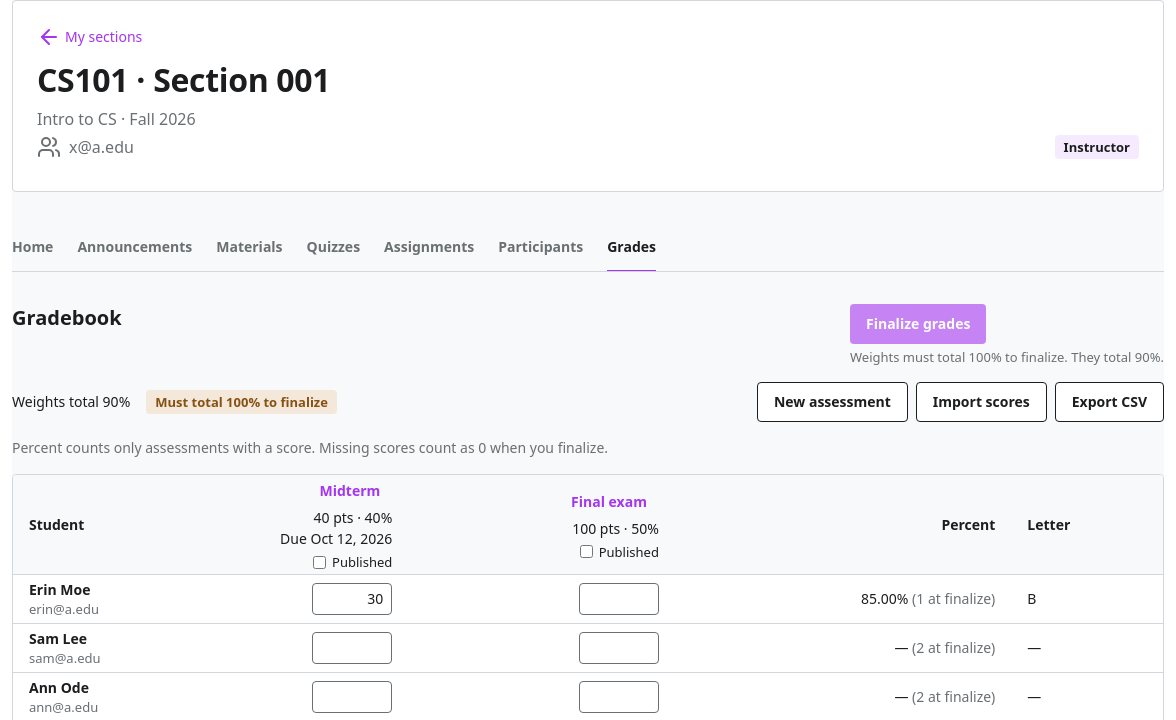
Scenario: no PUT without a change, and Escape restores the server value
Focus the field named "Score for Erin Moe, Midterm" at (352, 599), box top-left (312, 583), bottom-right (392, 615)
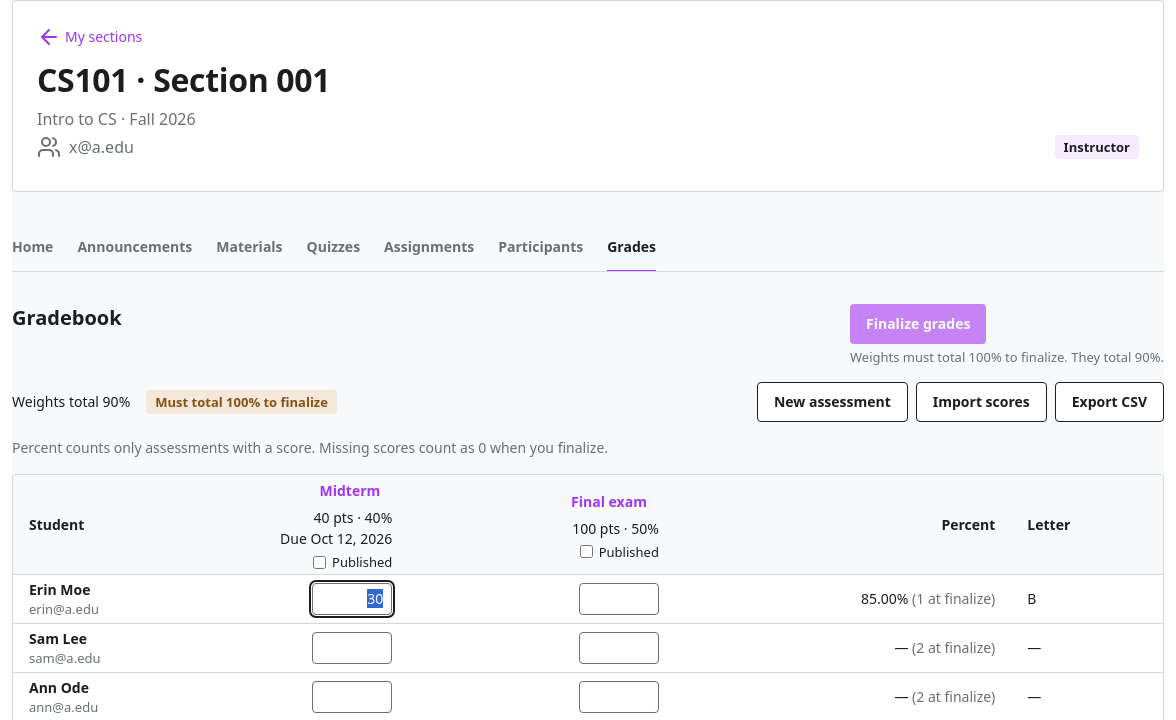
Replace the text in the field named "Score for Erin Moe, Midterm" with "39" at (352, 599), box top-left (312, 583), bottom-right (392, 615)
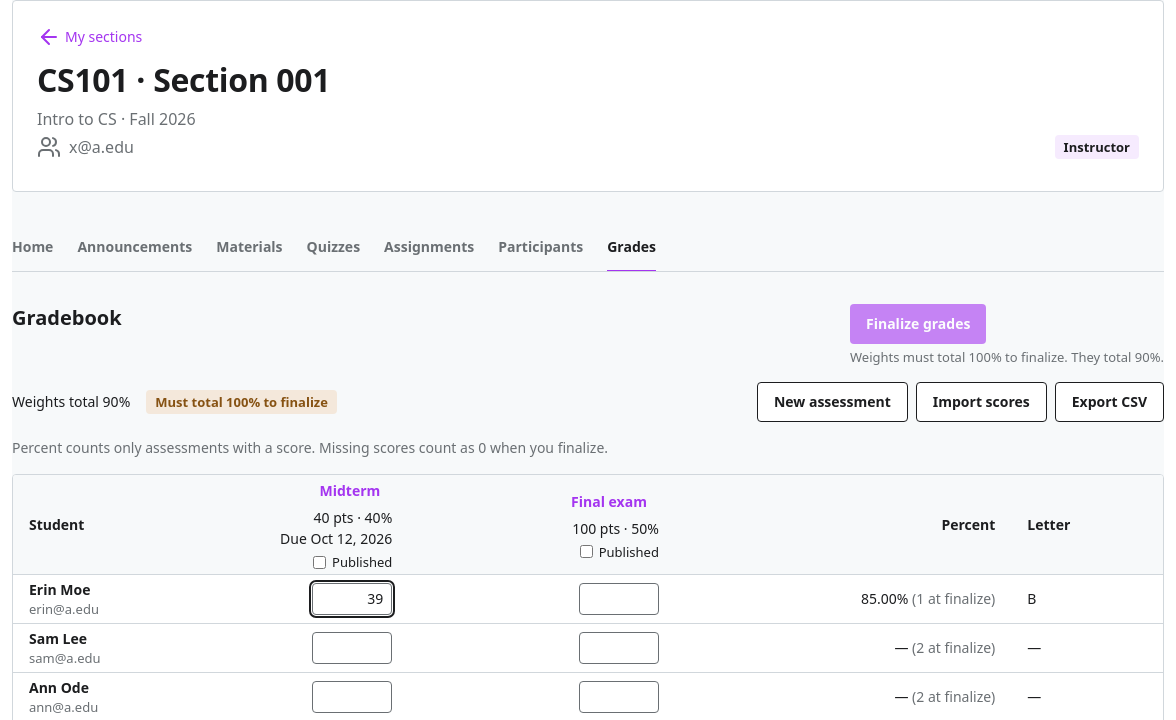
Press Escape in the field named "Score for Erin Moe, Midterm", box top-left (312, 583), bottom-right (392, 615)
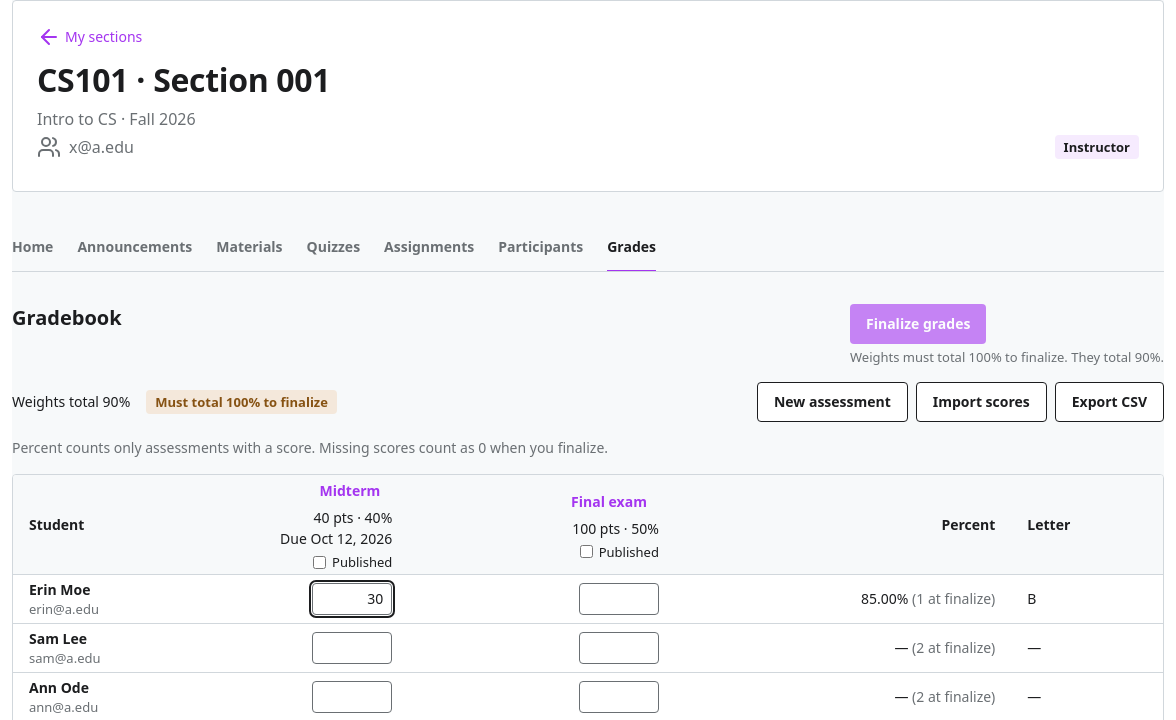
Check: the field named "Score for Erin Moe, Midterm" holds "30", box top-left (312, 583), bottom-right (392, 615)
